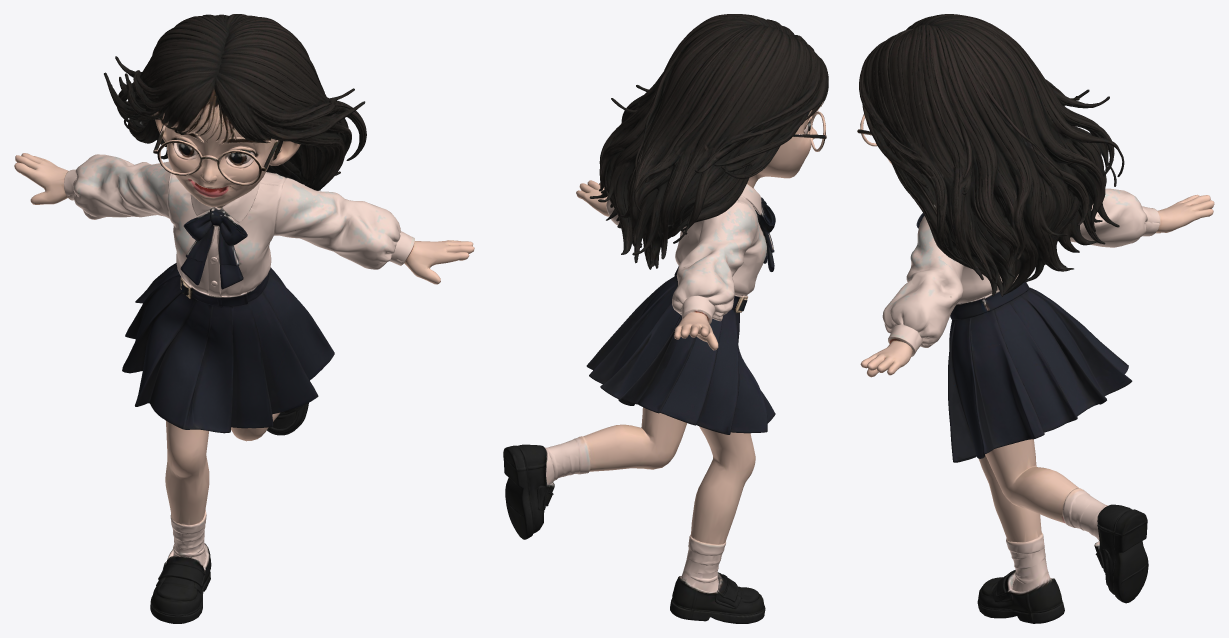
The model's file is initial.glb.
The picture shows the model from 3 angles, left to right: view 1: azimuth 30°, elevation 25°; view 2: azimuth 150°, elevation 25°; view 3: azimuth 270°, elevation 25°; orthographic projection. The views are drawn at different scales.
Parts seen in each view (by area): view 1: tripo_node_94fee9f8-72ec-4be7-8941-6564b1f25dd7; view 2: tripo_node_94fee9f8-72ec-4be7-8941-6564b1f25dd7; view 3: tripo_node_94fee9f8-72ec-4be7-8941-6564b1f25dd7.
Boxes of the visible parts, x1,y1,x2,y2 form: tripo_node_94fee9f8-72ec-4be7-8941-6564b1f25dd7: (14, 14, 474, 623); tripo_node_94fee9f8-72ec-4be7-8941-6564b1f25dd7: (503, 14, 828, 623); tripo_node_94fee9f8-72ec-4be7-8941-6564b1f25dd7: (857, 14, 1214, 623).
Size of the model in its own units: 0.5017 by 0.9834 by 0.5321.
Materials: 1 (1 with a texture image).
